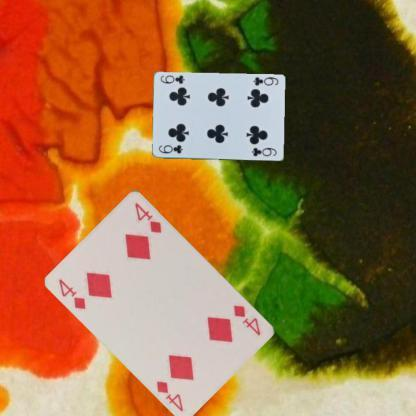4d: (56, 276, 90, 311), (230, 302, 262, 337)
6c: (250, 74, 280, 88), (156, 143, 184, 155)
